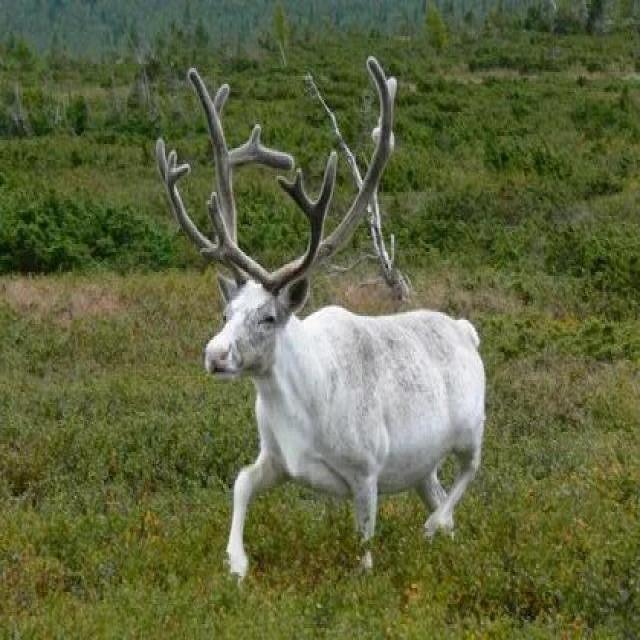deer: (121, 109, 507, 568)
